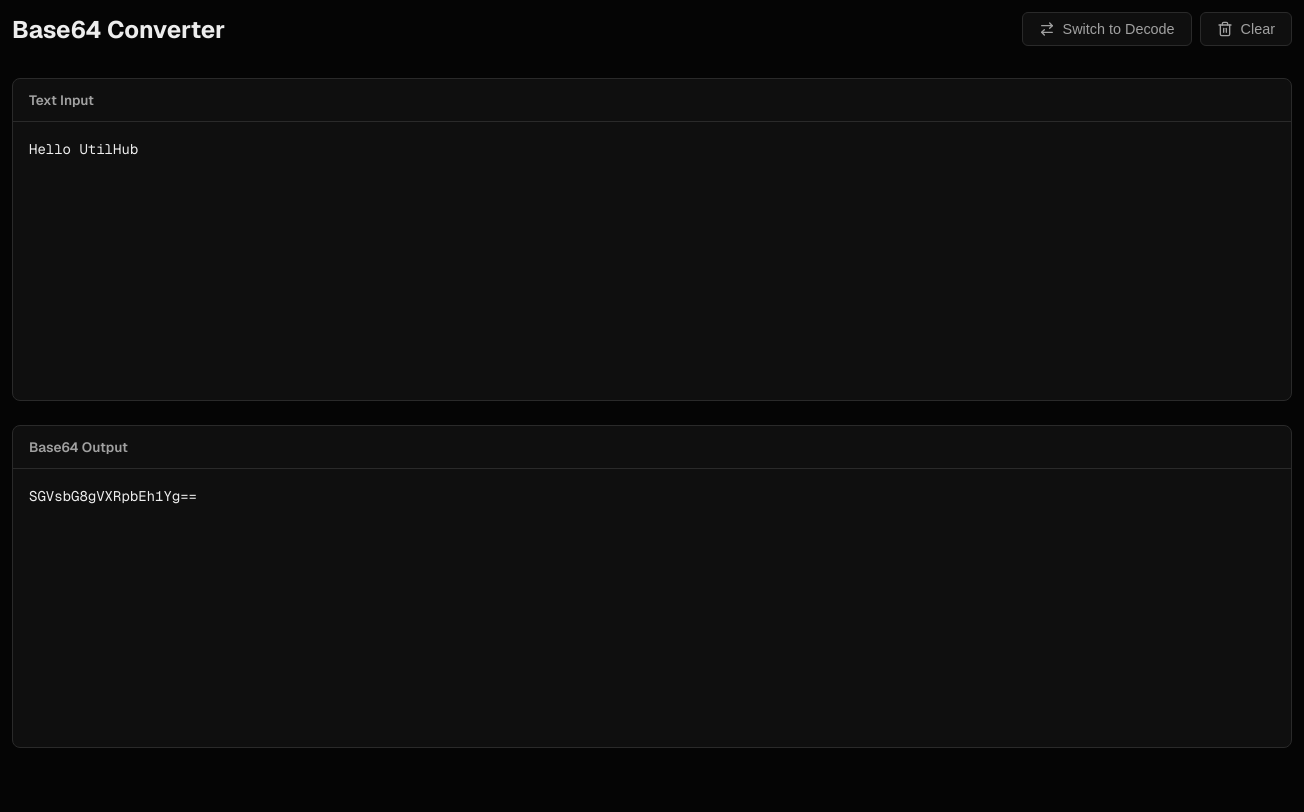
Test: Base64Tool › switches mode and decodes base64
Click the button titled "Switch Mode": (1107, 29) [1022,12,1192,46]
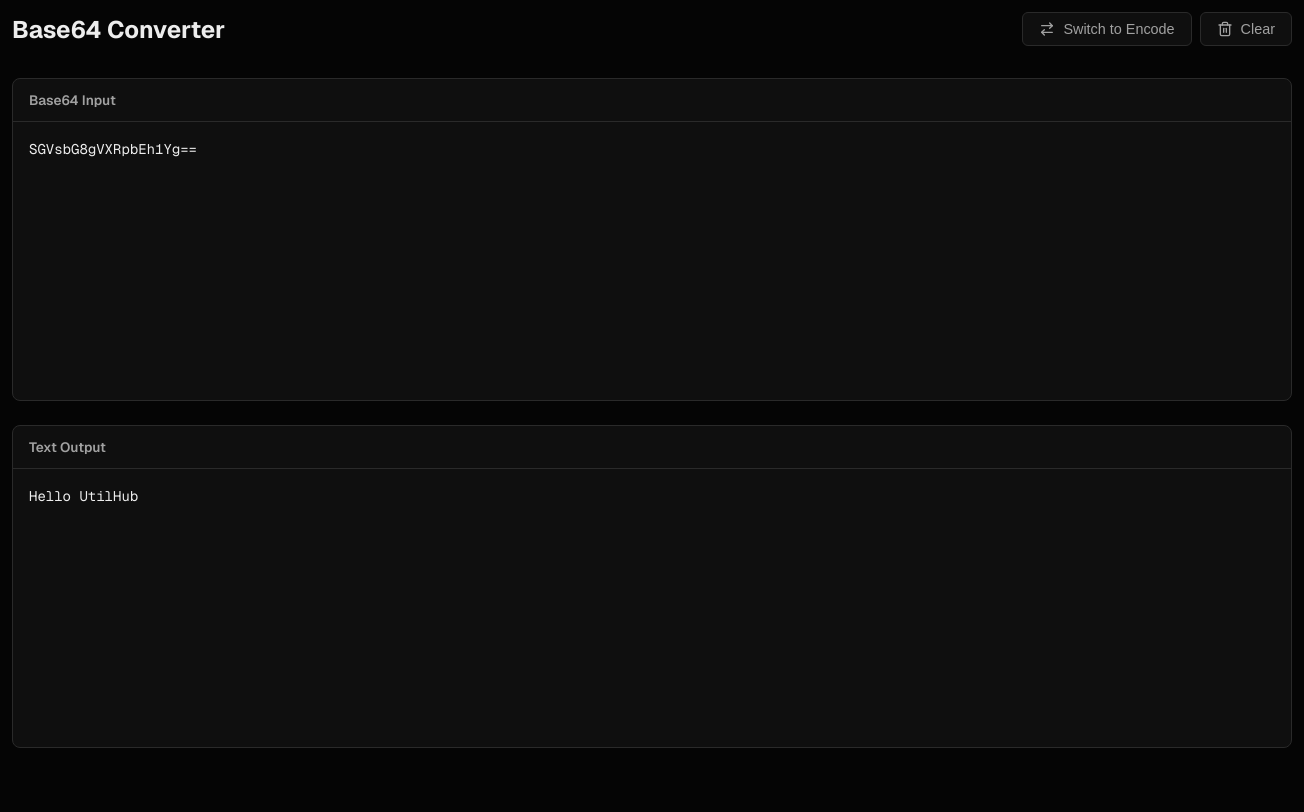
Replace the text in the text box with placeholder "Paste Base64 to decode..." below "Base64 Input" with "aGVsbG8=": (652, 261) [13,122,1291,400]
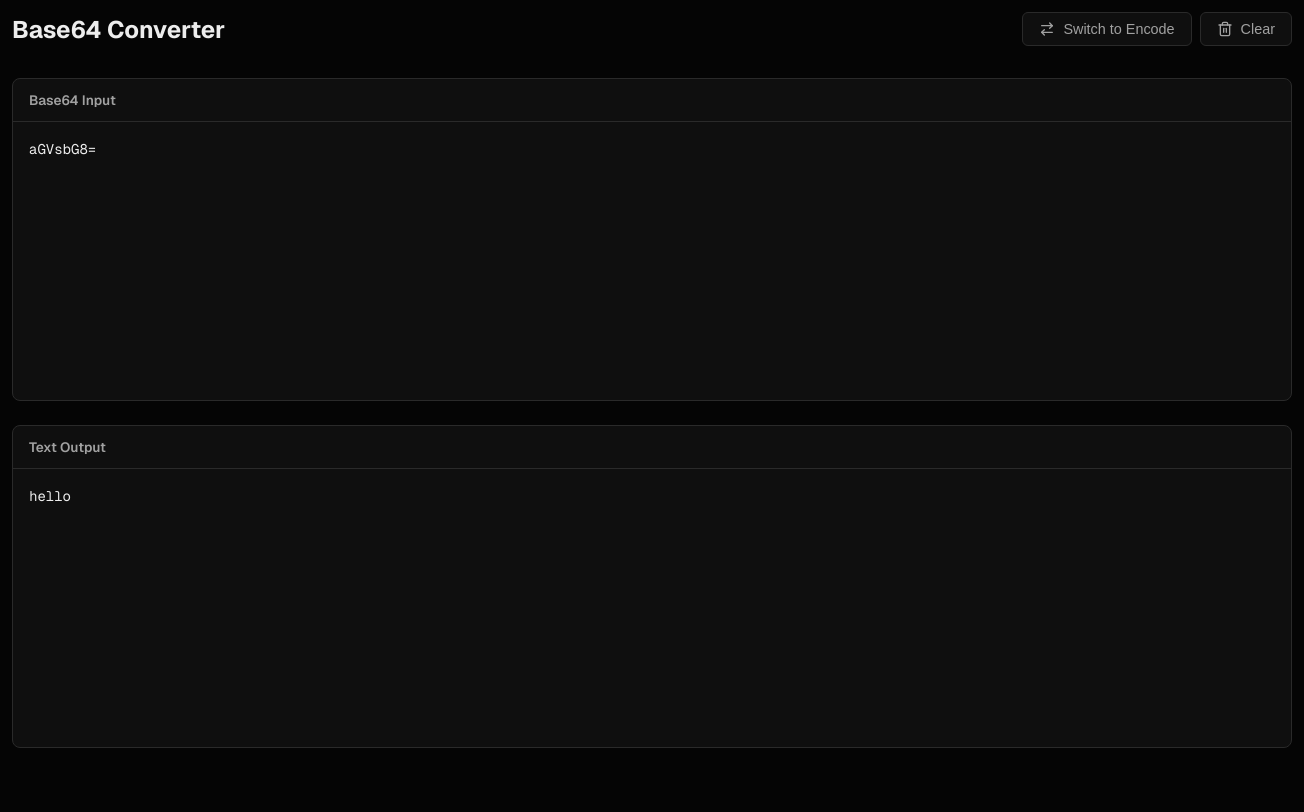
Expected: the text box with placeholder "Result will appear here..." below "Text Output" holds "hello", [13,469,1291,747]
